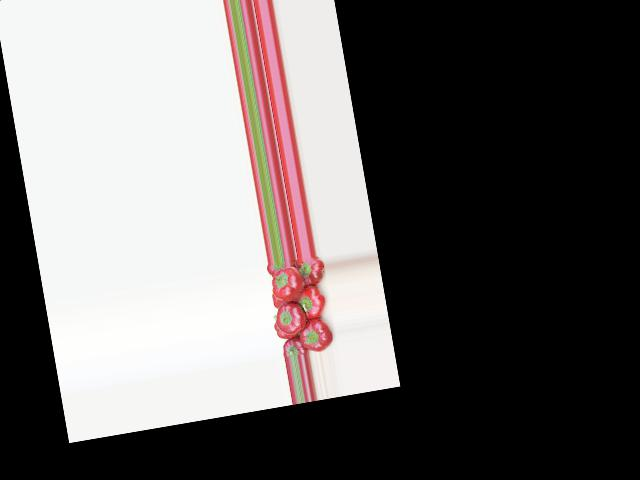bell_pepper: (270, 294, 285, 309)
